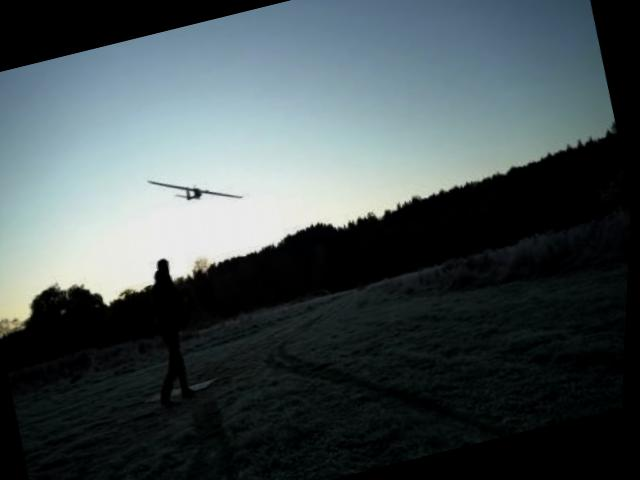uav: (139, 144, 256, 228)
